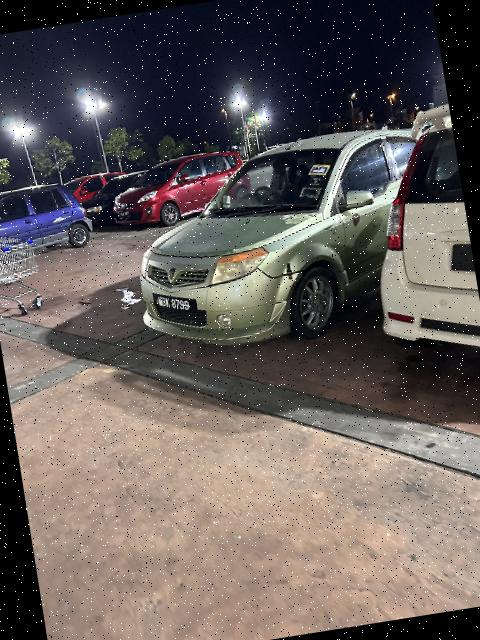License_Plate: (147, 286, 202, 324)
car: (115, 114, 445, 373), (332, 109, 480, 378)
